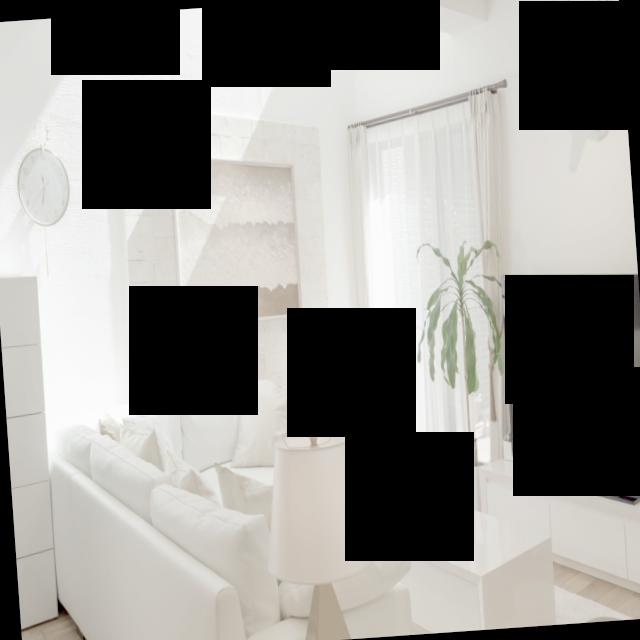white sofa: (54, 381, 385, 640)
